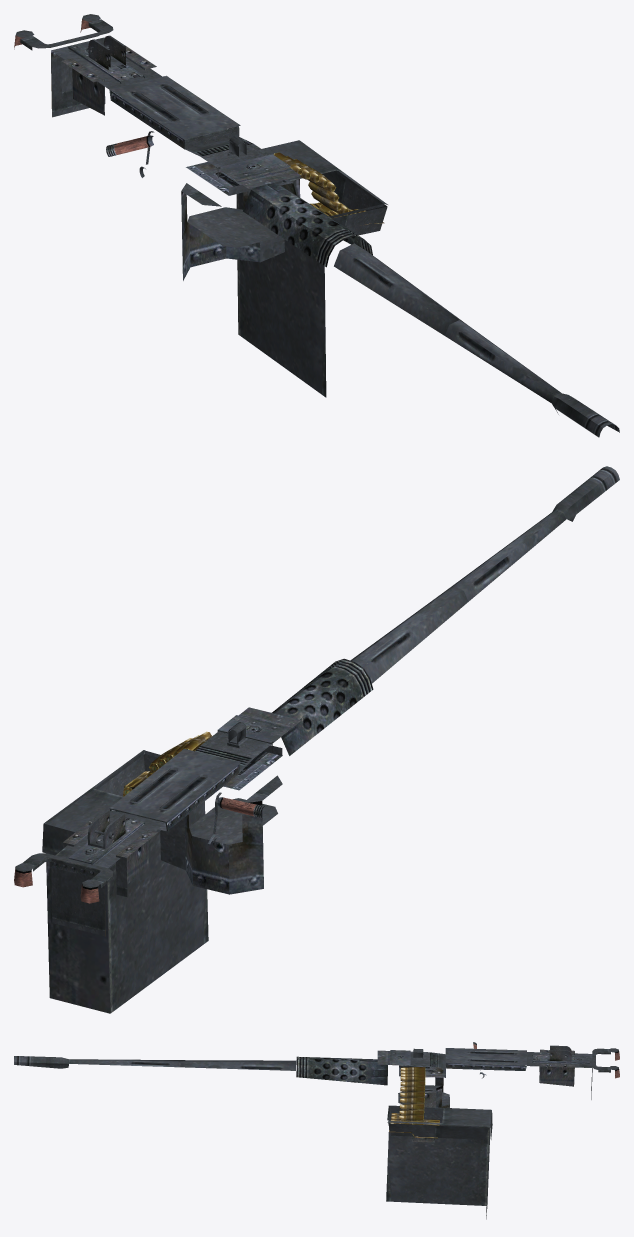
3 views of the same model, one above another, from view 1: azimuth 30°, elevation 25°; view 2: azimuth 150°, elevation 25°; view 3: azimuth 270°, elevation 25° (orthographic). The views are drawn at different scales.
Visible parts, largest first — view 1: _b50_1st; view 2: _b50_1st; view 3: _b50_1st.
Boxes of the visible parts, x1,y1,x2,y2 form: _b50_1st: (14,14,619,437); _b50_1st: (14,466,619,1013); _b50_1st: (14,1042,619,1219).
Size of the model in its own units: 0.3131 by 0.3771 by 1.46.
Materials: 3 (3 with a texture image).
